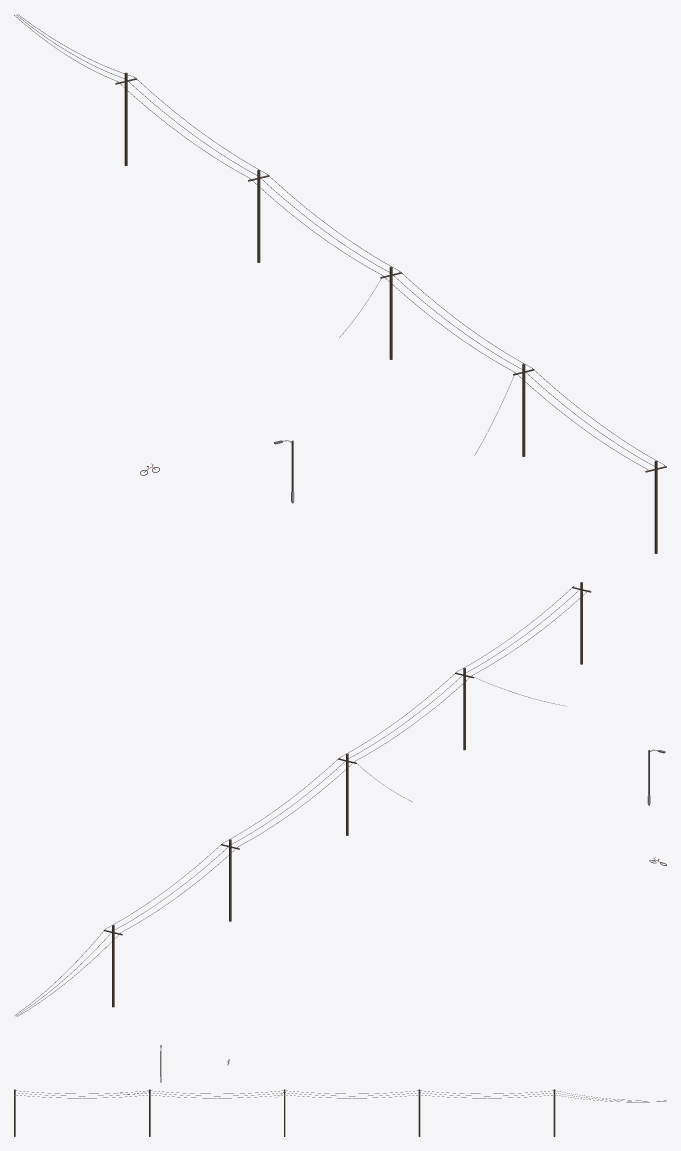
Rendered from village.glb.
3 views of the same model, one above another, from view 1: azimuth 30°, elevation 25°; view 2: azimuth 150°, elevation 25°; view 3: azimuth 270°, elevation 25° (orthographic). The views are drawn at different scales.
Parts seen in each view (by area): view 1: village; view 2: village; view 3: village.
Boxes of the visible parts, x1=… form: village: x1=14, y1=14, x2=666, y2=553; village: x1=14, y1=582, x2=666, y2=1016; village: x1=14, y1=1045, x2=666, y2=1136.
Bounding box in the file's own units: 33.13 × 9.34 × 116.
